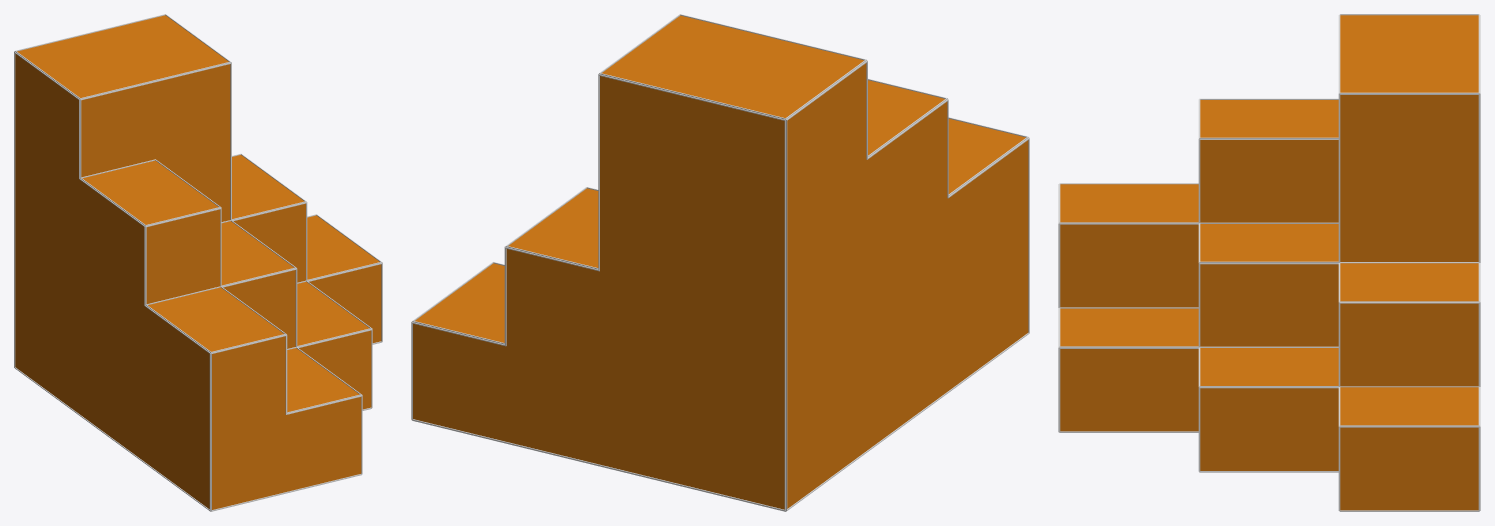
Rendered from PecaG.glb.
The picture shows the model from 3 angles, left to right: view 1: azimuth 30°, elevation 25°; view 2: azimuth 150°, elevation 25°; view 3: azimuth 270°, elevation 25°; orthographic projection. The views are drawn at different scales.
Parts seen in each view (by area): view 1: Sólido1; view 2: Sólido1; view 3: Sólido1.
Part boxes in pixels (x1=…): Sólido1: x1=14, y1=14, x2=382, y2=511; Sólido1: x1=411, y1=14, x2=1029, y2=511; Sólido1: x1=1058, y1=14, x2=1480, y2=511.
Bounding box in the file's own units: 0.0402 × 0.0402 × 0.0452.
